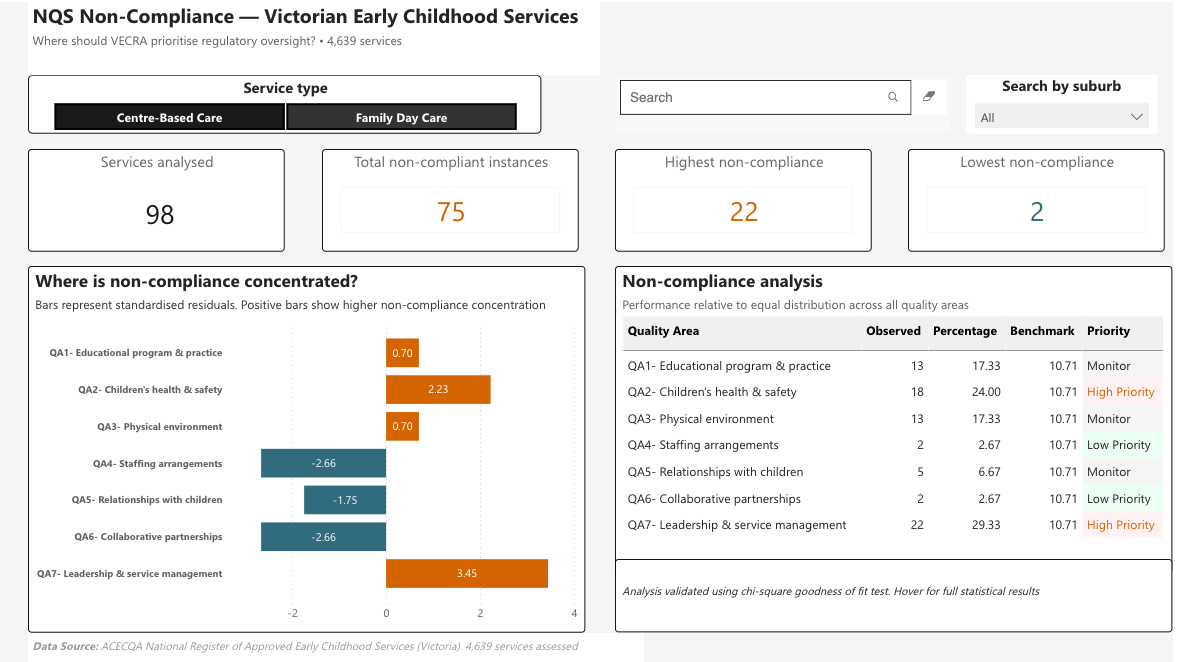

What the dashboard file says about the page in this screenshot:
{"tool":"powerbi","page":{"name":"Main Analysis","canvas":[1280,720],"ordinal":0},"visuals":[{"type":"slicer","title":"Service type","fields":{"Values":["Education-services-vic-just data.ServiceType"]},"box":[32,80,560,64],"z":0},{"type":"group","id":"g1","title":"Group 1","box":[672,80,592,64],"z":1000},{"type":"slicer","title":"Search by suburb","fields":{"Values":["Education-services-vic-just data.Suburb"]},"box":[1055.1,80,208.9,64],"z":1000,"group":"g1"},{"type":"textFilter25A4896A83E0487089E2B90C9AE57C8A","fields":{"field":["Education-services-vic-just data.Suburb"]},"box":[672,80,365.6,64],"z":2000,"group":"g1"},{"type":"cardVisual","title":"Services analysed","fields":{"Data":["Education-services-vic-just data.Total Services"]},"box":[32,160,280,112],"z":2000},{"type":"cardVisual","title":"Total non-compliant instances","fields":{"Data":["Education-services-vic-just data.Total_NC"]},"box":[352,160,280,112],"z":3000},{"type":"cardVisual","title":"Highest non-compliance","fields":{"Data":["Education-services-vic-just data.Highest_NC"]},"box":[672,160,280,112],"z":4000},{"type":"cardVisual","title":"Lowest non-compliance","fields":{"Data":["Education-services-vic-just data.Lowest_NC"]},"box":[992,160,280,112],"z":5000},{"type":"clusteredBarChart","title":"Where is non-compliance concentrated?","fields":{"Category":["QA_table.Quality_Area"],"Y":["Education-services-vic-just data.Std_Residual_Display"]},"box":[32,288,608,400],"z":6000},{"type":"tableEx","title":"Non-compliance analysis","fields":{"Values":["QA_table.Quality_Area","Education-services-vic-just data.Observed_Table","Education-services-vic-just data.NC_percentage","Education-services-vic-just data.Expected_display","Education-services-vic-just data.Performance"]},"box":[672,288,608,336],"z":7000},{"type":"textbox","box":[672,608,608,80],"z":8000},{"type":"textbox","box":[32,688,672,32],"z":9000},{"type":"textbox","title":"NQS Non-Compliance — Victorian Early Childhood Services","box":[32,0,624,80],"z":10000}]}

Visuals, with their boxes in screenshot pixels (x1, y1, x2, y2), scaled from the page's 1280x720 canvas onto the 1180x662 screenshot:
"Service type" slicer: <box>30,74,546,132</box>
"Group 1" group: <box>620,74,1165,132</box>
"Search by suburb" slicer: <box>973,74,1165,132</box>
textFilter25A4896A83E0487089E2B90C9AE57C8A - Education-services-vic-just data.Suburb: <box>620,74,957,132</box>
"Services analysed" cardVisual: <box>30,147,288,250</box>
"Total non-compliant instances" cardVisual: <box>324,147,583,250</box>
"Highest non-compliance" cardVisual: <box>620,147,878,250</box>
"Lowest non-compliance" cardVisual: <box>914,147,1173,250</box>
"Where is non-compliance concentrated?" clusteredBarChart: <box>30,265,590,633</box>
"Non-compliance analysis" tableEx: <box>620,265,1179,574</box>
textbox: <box>620,559,1179,633</box>
textbox: <box>30,633,649,661</box>
"NQS Non-Compliance — Victorian Early Childhood Services" textbox: <box>30,0,605,74</box>
